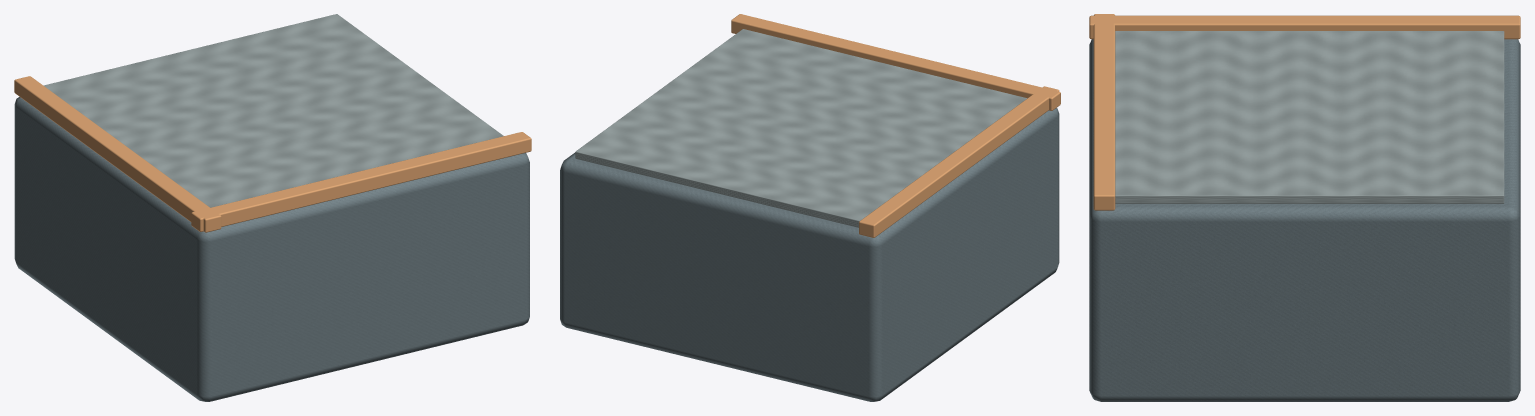
File: dwarven-runeforge-dungeon-dwarven-runeforge-dungeon-br-bbee449b__28581.glb
3 views of the same model, side by side, from view 1: azimuth 30°, elevation 25°; view 2: azimuth 150°, elevation 25°; view 3: azimuth 270°, elevation 25° (orthographic). The views are drawn at different scales.
Visible parts, largest first — view 1: dwarven-runeforge-dungeon-bridge-corner; view 2: dwarven-runeforge-dungeon-bridge-corner; view 3: dwarven-runeforge-dungeon-bridge-corner.
Part boxes in pixels (x1,y1,x2,y2): dwarven-runeforge-dungeon-bridge-corner: (14,14,531,401); dwarven-runeforge-dungeon-bridge-corner: (560,14,1060,401); dwarven-runeforge-dungeon-bridge-corner: (1089,14,1520,401).
Size of the model in its own units: 2 by 1.08 by 2.
3 materials, 2 textured.
